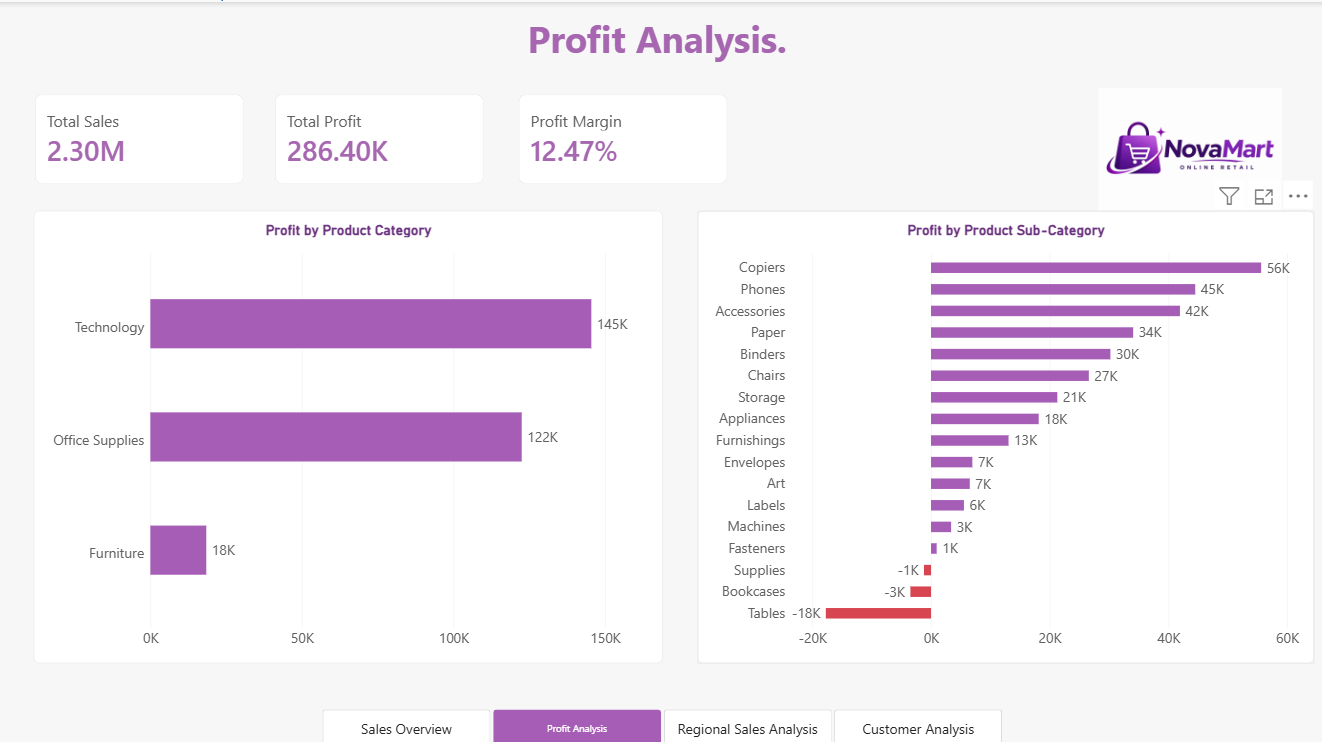

The dashboard page shown, as its layout file describes it:
{"tool":"powerbi","page":{"name":"Profit Analysis.","canvas":[1920,1080],"ordinal":1},"visuals":[{"type":"cardVisual","fields":{"Data":["Sample - Superstore.Total Sales"]},"box":[50.6,133.8,302.6,129.7],"z":0},{"type":"textbox","box":[763.4,16.5,393.1,84.4],"z":1000},{"type":"cardVisual","fields":{"Data":["Sample - Superstore.Total Profit"]},"box":[398.5,133.8,302.6,129.7],"z":2000},{"type":"cardVisual","fields":{"Data":["Sample - Superstore.Profit Margin"]},"box":[751.3,134.6,302.6,129.7],"z":3000},{"type":"image","box":[1558.2,125.6,329.3,177],"z":4000},{"type":"clusteredBarChart","title":"Profit by Product Category","fields":{"Category":["Sample - Superstore.Category"],"Y":["Sample - Superstore.Total Profit"]},"box":[48.9,302.2,910.3,655.1],"z":7001},{"type":"clusteredBarChart","title":"Profit by Product Sub-Category","fields":{"Category":["Sample - Superstore.Sub-Category"],"Y":["Sample - Superstore.Total Profit"]},"box":[1009.8,302.2,892.2,655.1],"z":7501},{"type":"pageNavigator","box":[466.1,1024.1,987.8,55.6],"z":7503}]}

Visuals, with their boxes in screenshot pixels (x1, y1, x2, y2), scaled from the page's 1920x1080 canvas onto the 1322x742 screenshot:
cardVisual - Sample - Superstore.Total Sales: select_region(35, 92, 243, 181)
textbox: select_region(526, 11, 796, 69)
cardVisual - Sample - Superstore.Total Profit: select_region(274, 92, 483, 181)
cardVisual - Sample - Superstore.Profit Margin: select_region(517, 92, 726, 182)
image: select_region(1073, 86, 1300, 208)
"Profit by Product Category" clusteredBarChart: select_region(34, 208, 660, 658)
"Profit by Product Sub-Category" clusteredBarChart: select_region(695, 208, 1310, 658)
pageNavigator: select_region(321, 704, 1001, 741)
